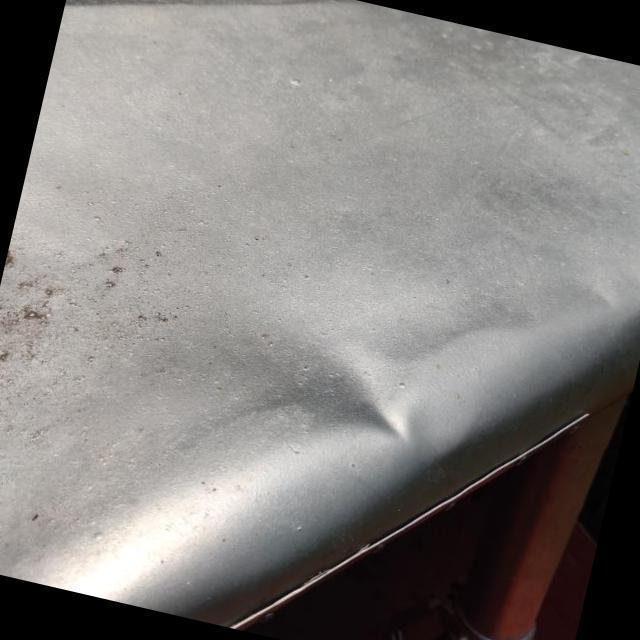Dent: (241, 280, 451, 484)
